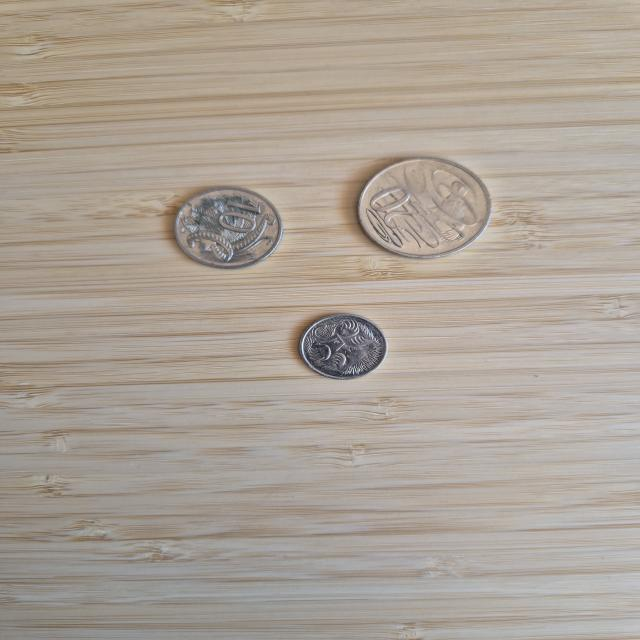10-cents: (164, 186, 284, 272)
20-cents: (352, 155, 494, 263)
5-cents: (288, 312, 389, 384)
